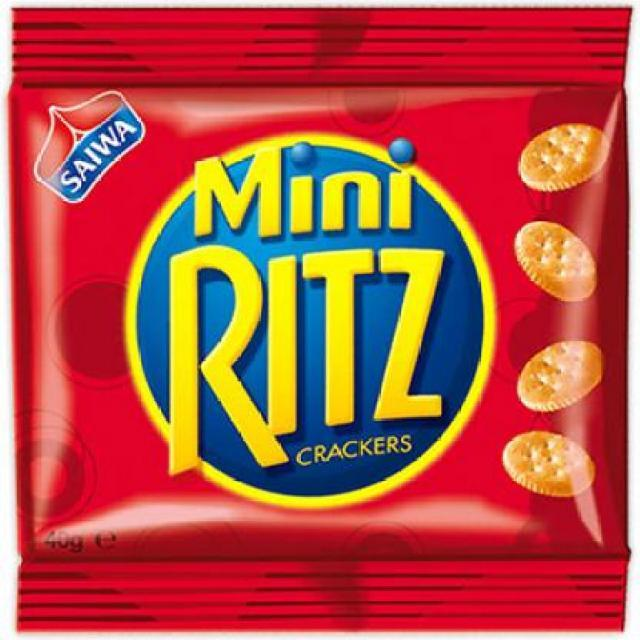Ritz cracker: (10, 6, 639, 639)
